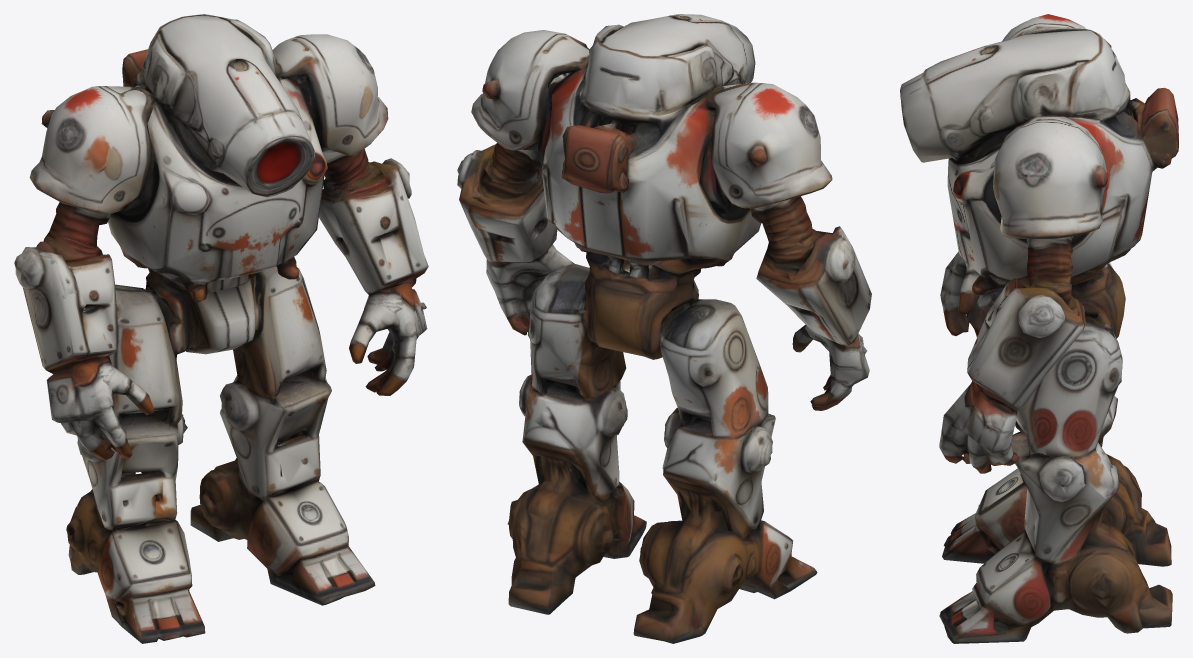
The model's file is bruiser_unit.glb.
3 renders of one model, left to right at view 1: azimuth 30°, elevation 25°; view 2: azimuth 150°, elevation 25°; view 3: azimuth 270°, elevation 25°, orthographic.
Size of the model in its own units: 1.48 by 2 by 0.924.
Materials: 1 (1 with a texture image).
